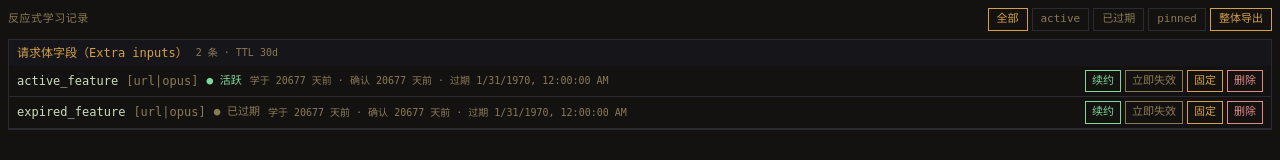
LearnedPage › expired filter surfaces manually_expired rows and hides active ones
expect the text "active_feature" is shown: met, box left=17, top=72, right=118, bottom=90
expect the text "expired_feature" is shown: met, box left=17, top=103, right=125, bottom=121
# The "expired" filter renders as the localized label "已过期" (§4.5).
What coordinates should you click on to do the following:
click the button "已过期"
I would click on:
 (1119, 19)
Its box is left=1093, top=8, right=1144, bottom=30.
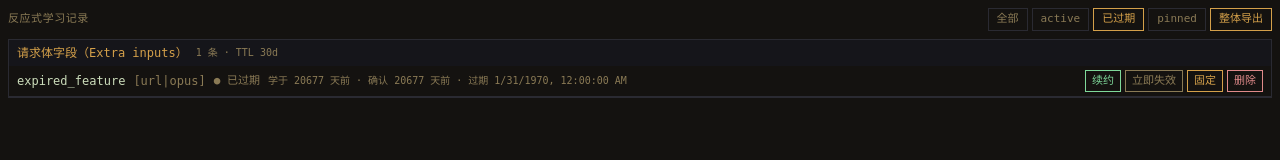
expect the text "expired_feature" is shown: met, box left=17, top=72, right=125, bottom=90
expect the text "active_feature" is gone: met
